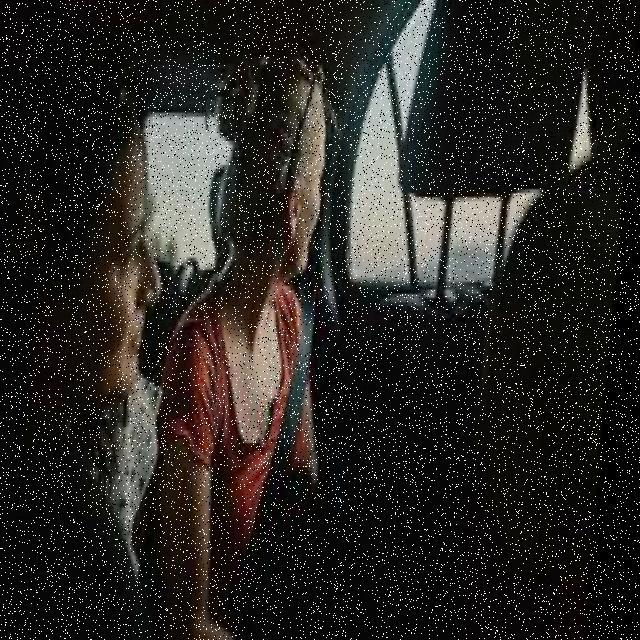seatbelt: (219, 280, 352, 614)
